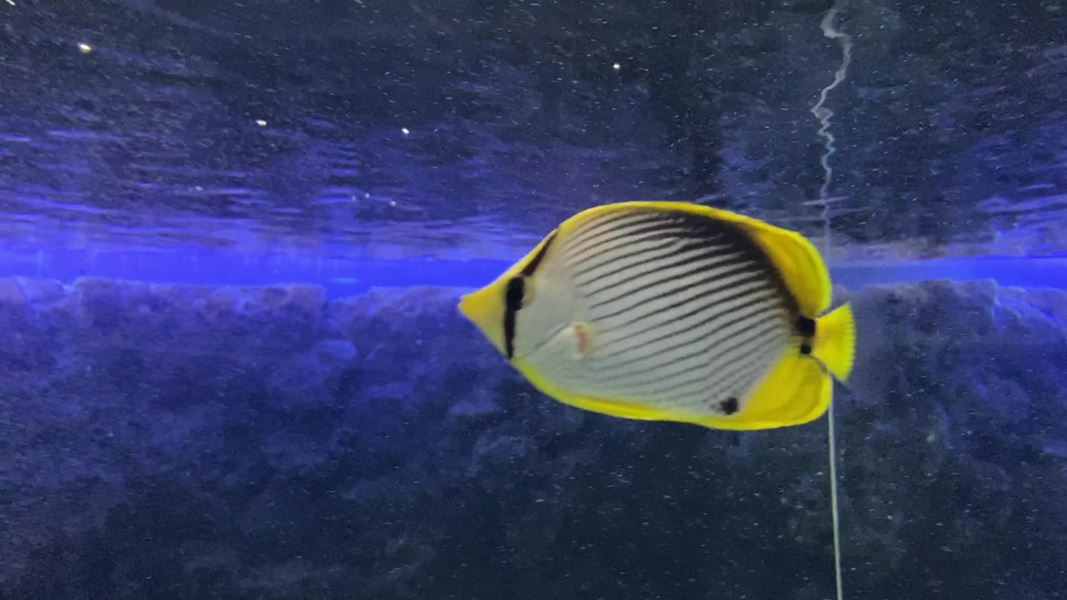Black-backed butterflyfish: (445, 184, 911, 446)
